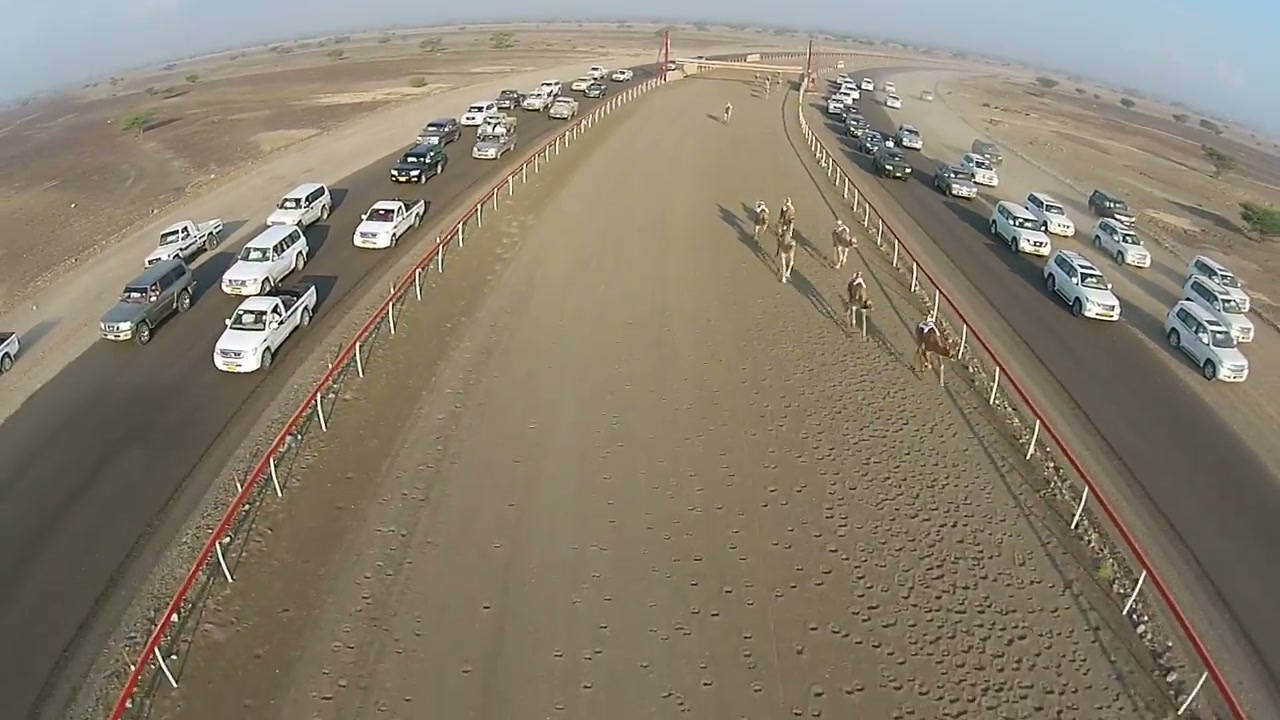animal_footprint: (800, 314, 1126, 719)
